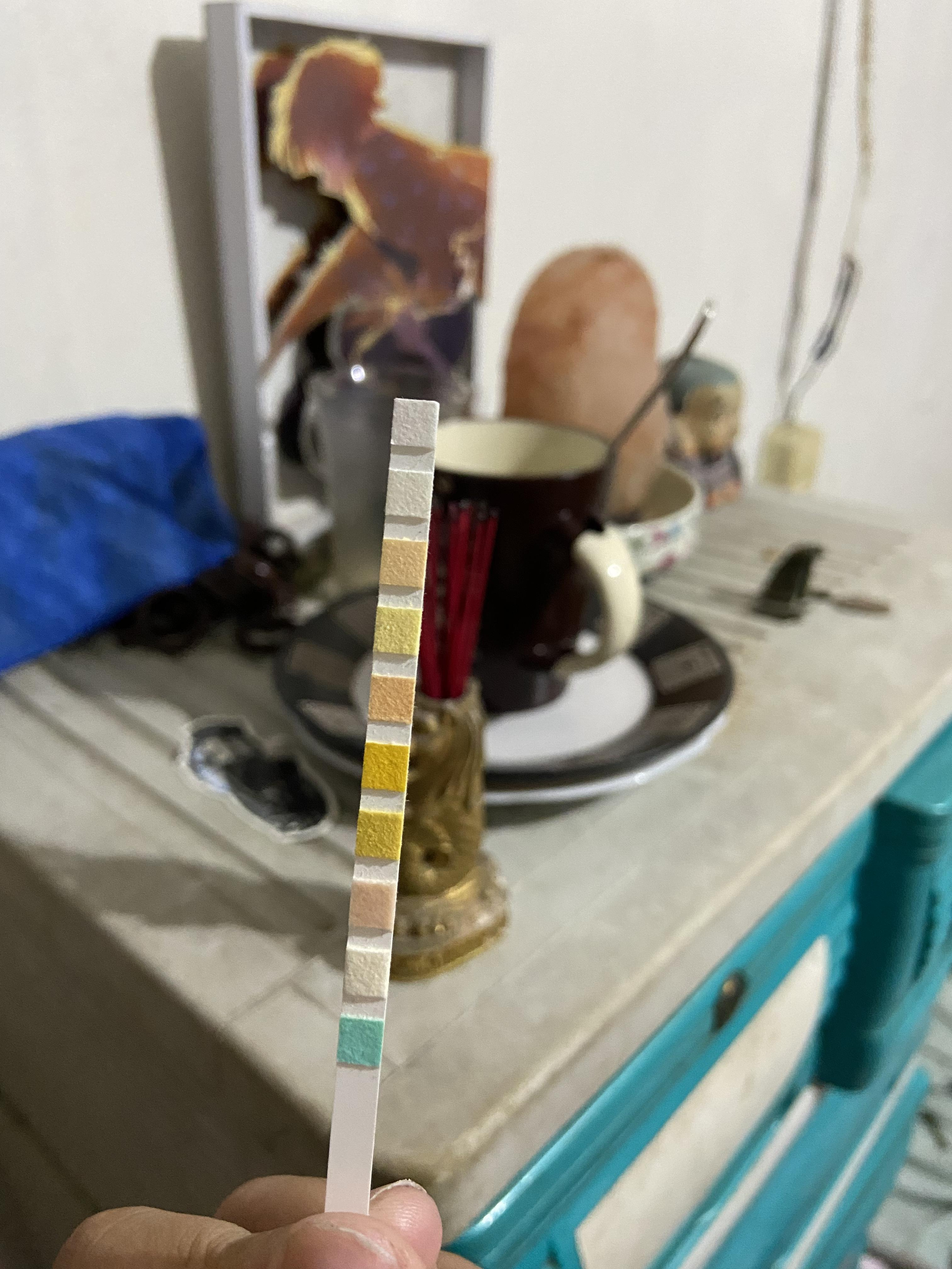Bilirubin: (348, 955, 384, 993)
Blood: (366, 749, 405, 787)
Glucose: (342, 1023, 379, 1061)
Ketone: (354, 885, 396, 925)
Leukocytes: (395, 403, 435, 444)
Nitrite: (389, 475, 428, 514)
Protein: (378, 612, 419, 651)
SpGravity: (360, 817, 400, 855)
Urobilinogen: (384, 543, 424, 582)
pH: (371, 679, 412, 719)
strip: (325, 399, 439, 1215)
